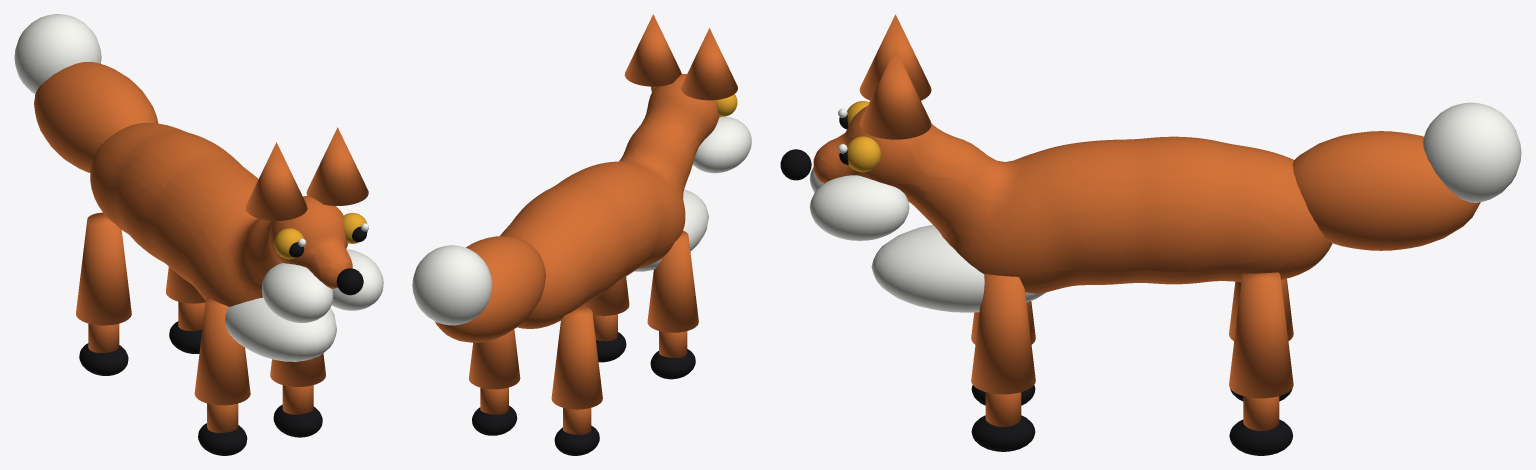
File: StarPet_Fox.obj
3 renders of one model, left to right at view 1: azimuth 30°, elevation 25°; view 2: azimuth 150°, elevation 25°; view 3: azimuth 270°, elevation 25°, orthographic. The views are drawn at different scales.
Parts seen in each view (by area): view 1: StarPet_Fox; view 2: StarPet_Fox; view 3: StarPet_Fox.
Part boxes in pixels (x1,y1,x2,y2): StarPet_Fox: [14, 14, 383, 455]; StarPet_Fox: [412, 14, 751, 455]; StarPet_Fox: [780, 14, 1521, 455].
Bounding box in the file's own units: 1.54 × 3.64 × 6.18.
